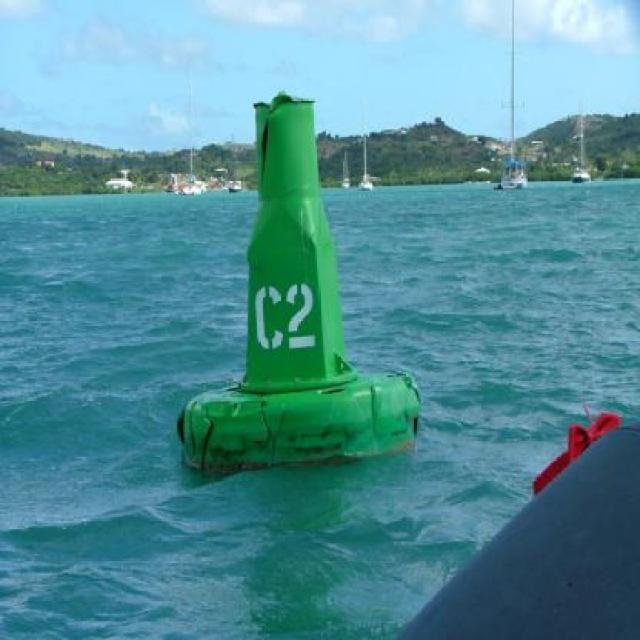a: (171, 74, 433, 473)
